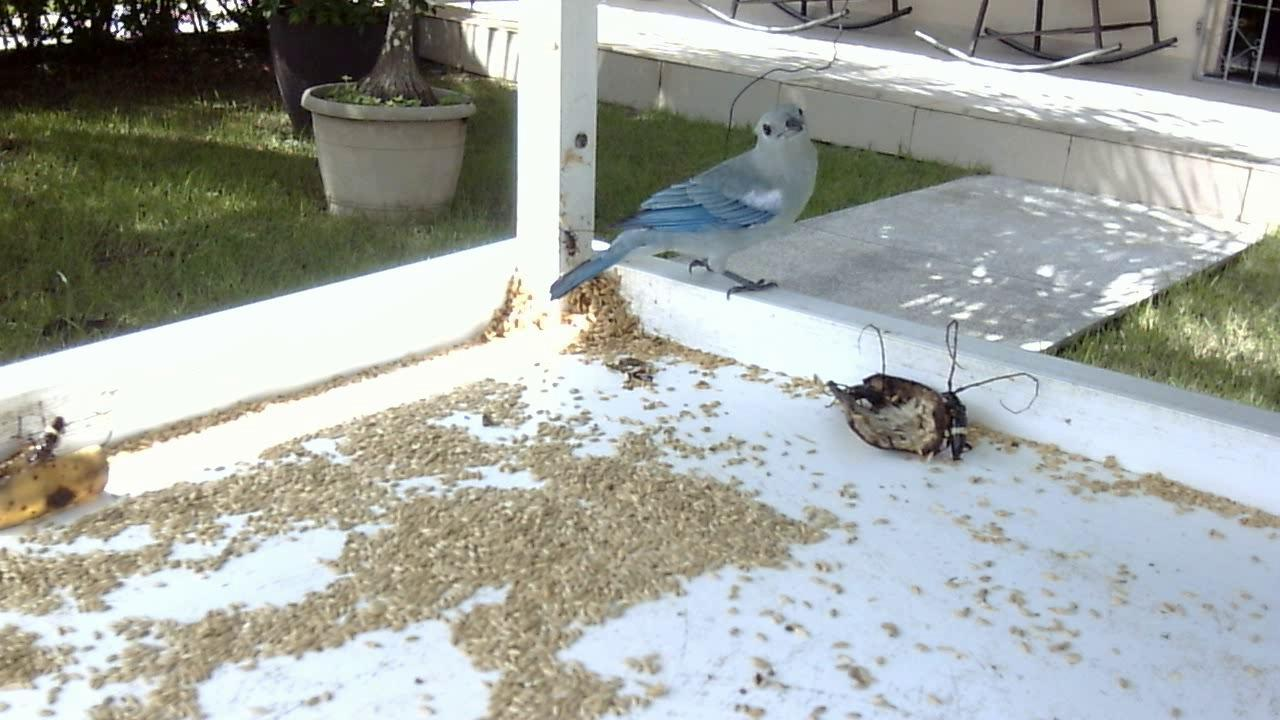sanhaco_da_amazonia: (546, 103, 826, 313)
